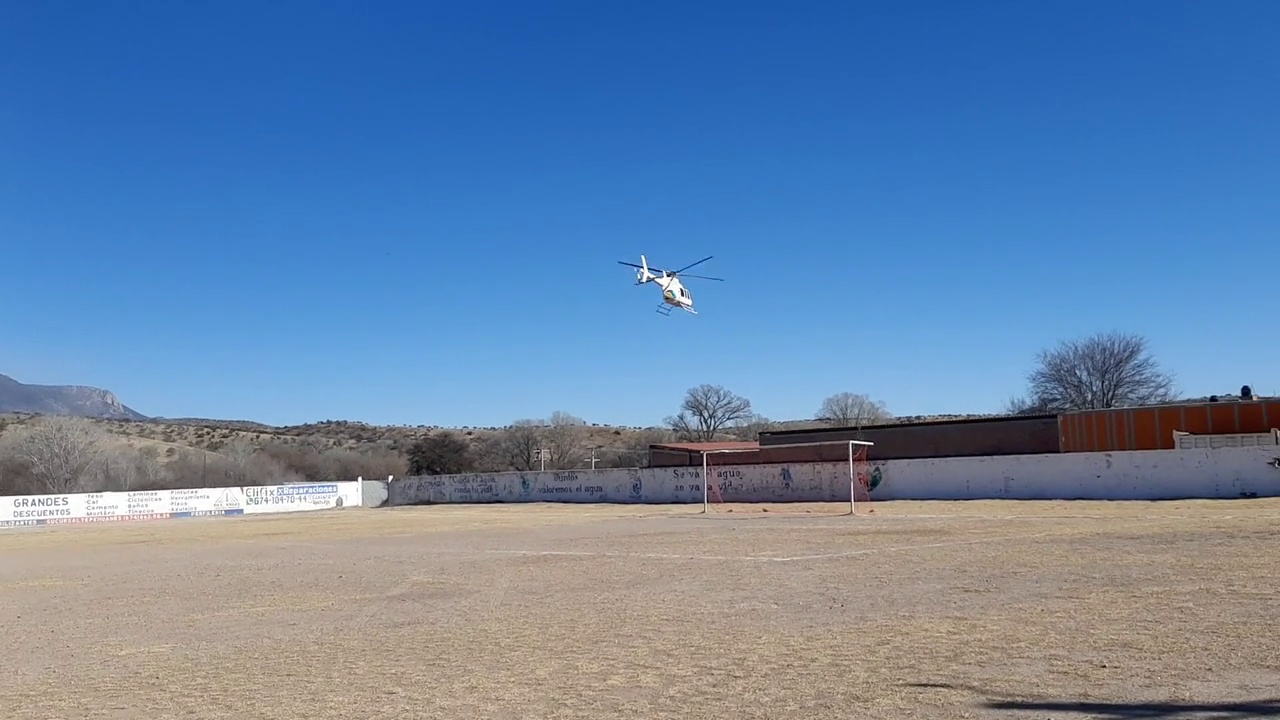heli: (614, 249, 726, 317)
